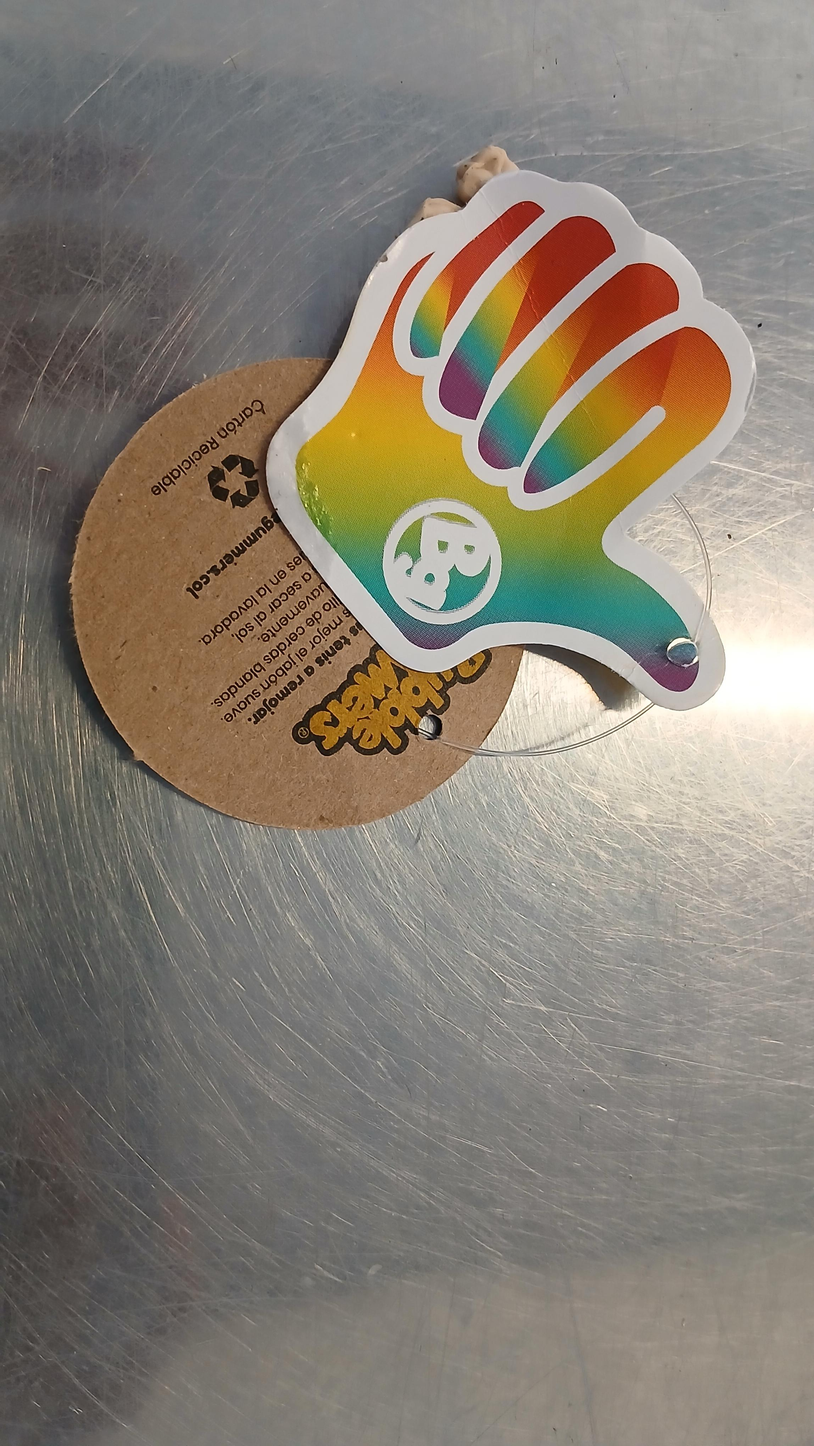Papel: (67, 143, 763, 831)
